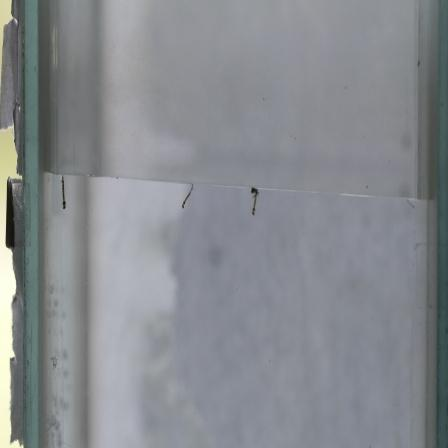Jentik-Nyamuk: (177, 180, 199, 212), (55, 173, 72, 212), (246, 185, 262, 218)
